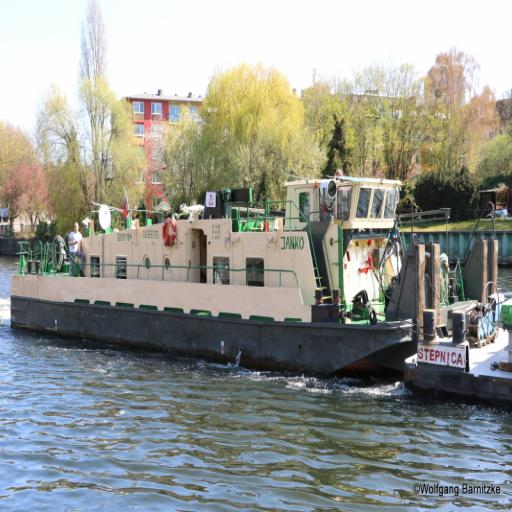tugboat: (7, 164, 501, 397)
